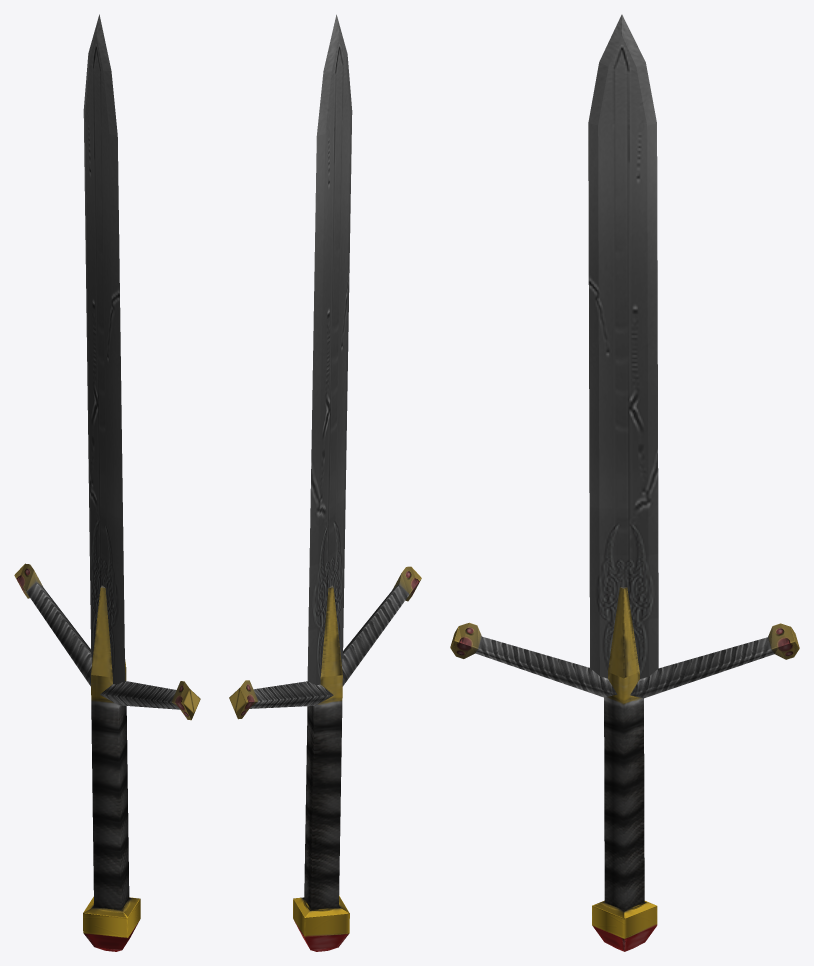
Rendered from sword2.FBX.
The picture shows the model from 3 angles, left to right: view 1: azimuth 30°, elevation 25°; view 2: azimuth 150°, elevation 25°; view 3: azimuth 270°, elevation 25°; orthographic projection.
Visible parts, largest first — view 1: tireRack; view 2: tireRack; view 3: tireRack.
Part boxes in pixels (left/top/right/bottom): tireRack: left=14, top=14, right=200, bottom=951; tireRack: left=229, top=14, right=421, bottom=951; tireRack: left=450, top=14, right=799, bottom=951.
Size of the model in its own units: 8.15 by 43.42 by 127.
